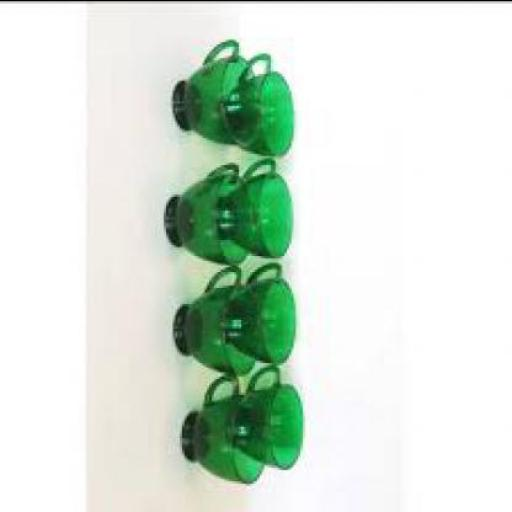glass: (170, 36, 262, 144), (180, 371, 268, 479), (164, 158, 257, 260), (173, 264, 259, 371), (225, 259, 298, 360), (236, 362, 306, 466), (234, 50, 298, 152), (239, 154, 295, 256)
